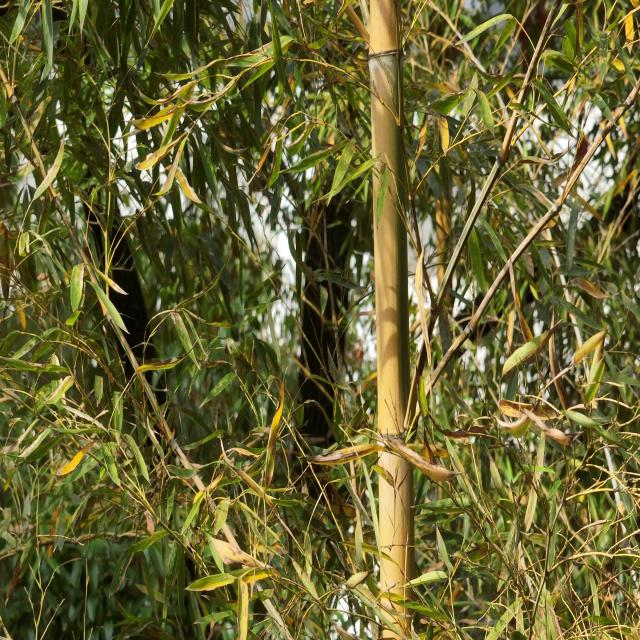Bamboo-shoots: (369, 0, 418, 640)
